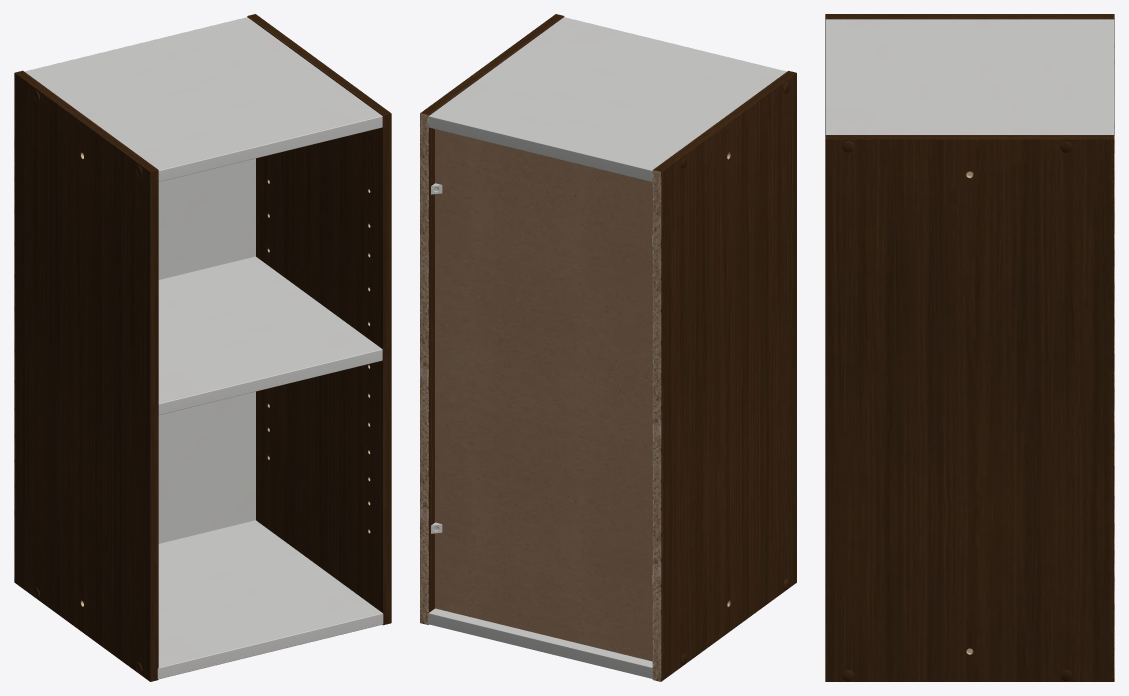
The model's file is abo-B07TSTJM5G.glb.
3 views of the same model, side by side, from view 1: azimuth 30°, elevation 25°; view 2: azimuth 150°, elevation 25°; view 3: azimuth 270°, elevation 25° (orthographic). The views are drawn at different scales.
Size of the model in its own units: 0.3 by 0.6 by 0.29.
Materials: 1 (1 with a texture image).
